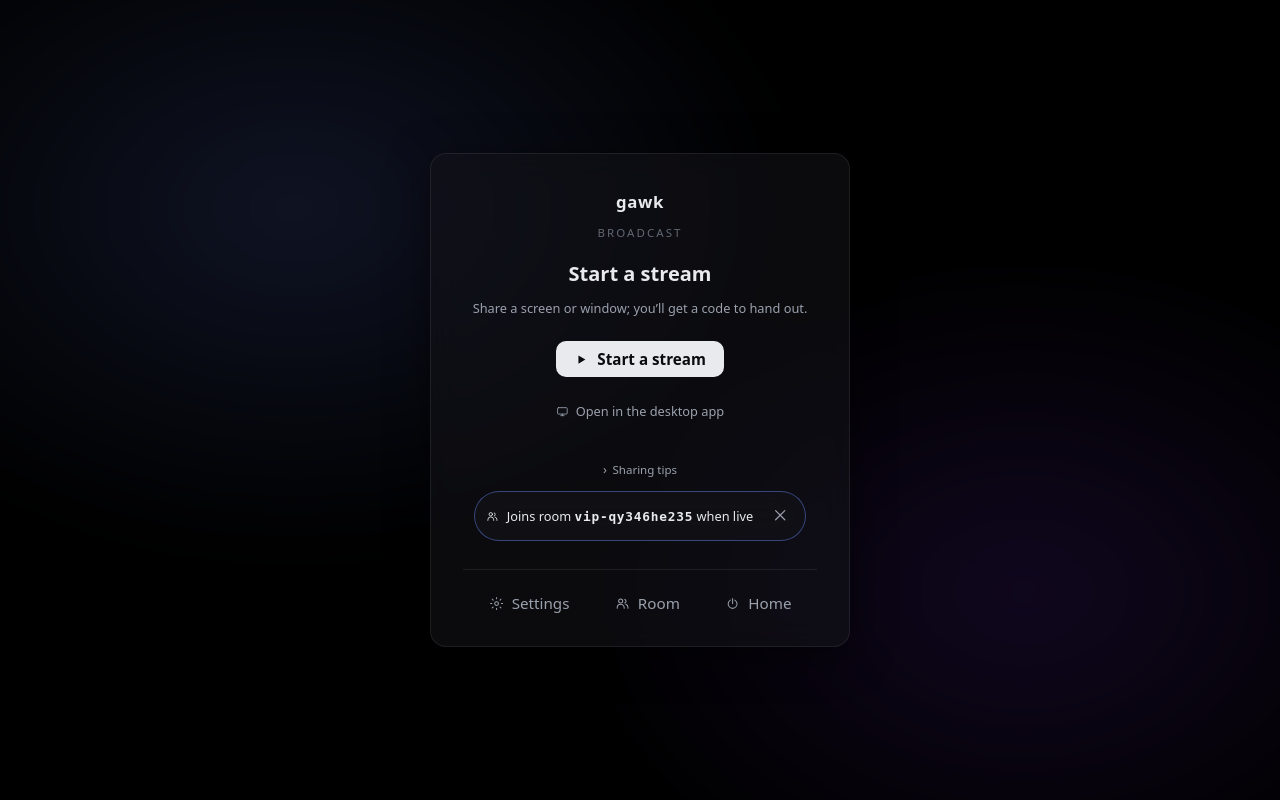
Test: the Opening modal (D4, D6, G7) › opens on a click; the browser path underneath is untouched
The image size is (1280, 800).
Click the link "Open in the desktop app": (640, 411) [556, 402, 724, 420]
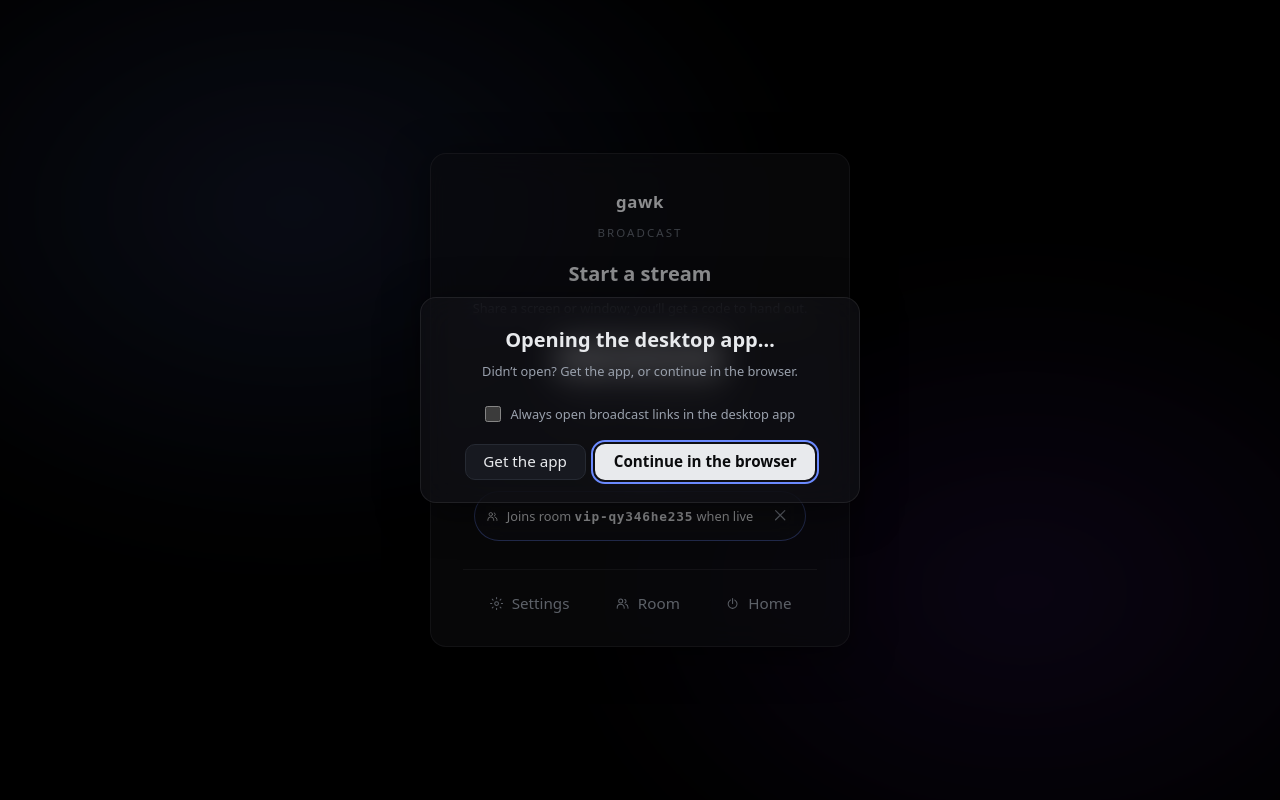
Now the heading "Opening the desktop app…" is shown, box [505, 326, 775, 353]
Now the link "Get the app" is shown, box [465, 444, 586, 480]
Click the button "Continue in the browser": (705, 462) [595, 444, 815, 480]
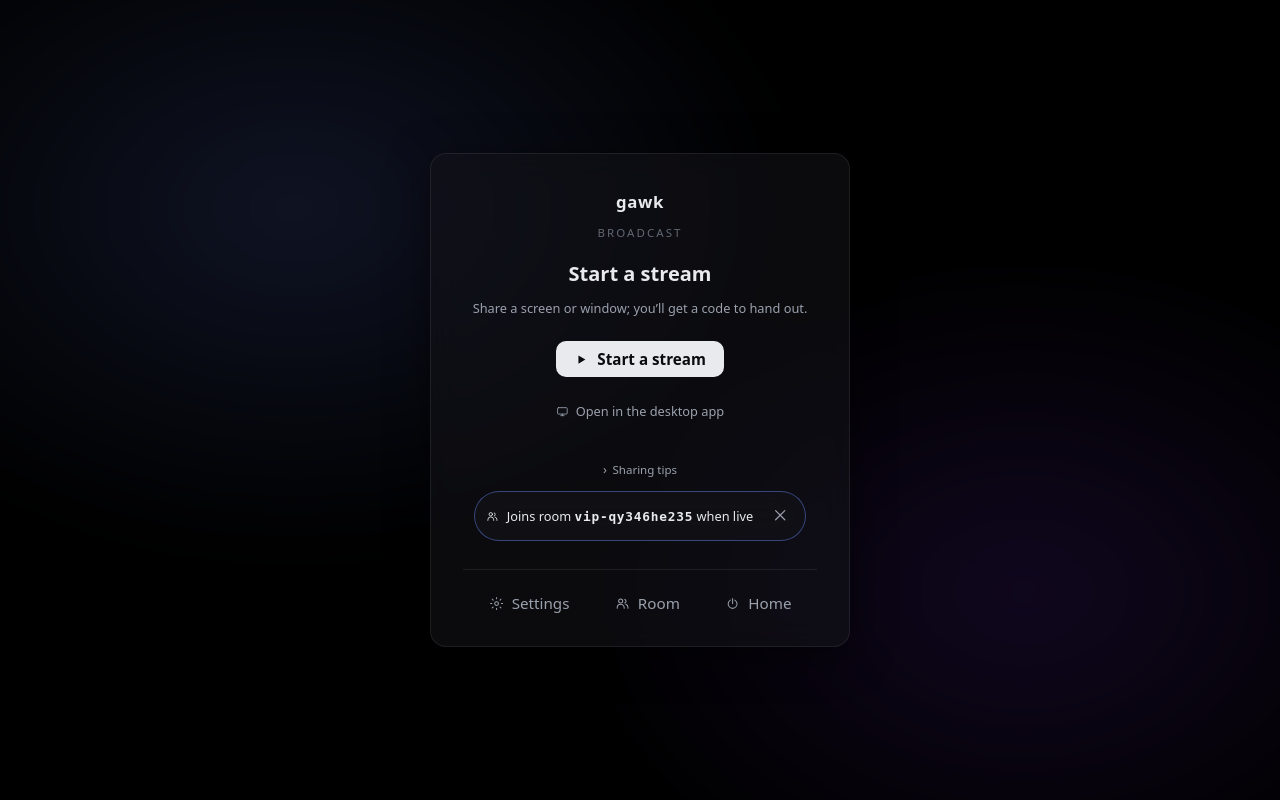
Expected: the button "Start a stream" is enabled, [556, 341, 724, 377]
Now the dialog with test id "desktop-handoff-modal" is gone
